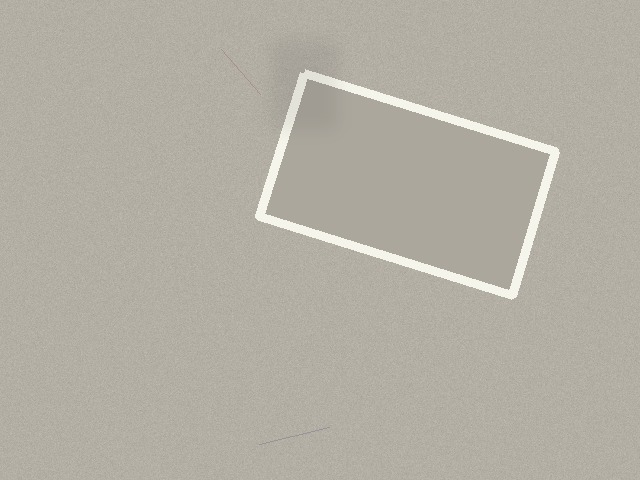parking_area: (259, 73, 555, 295)
